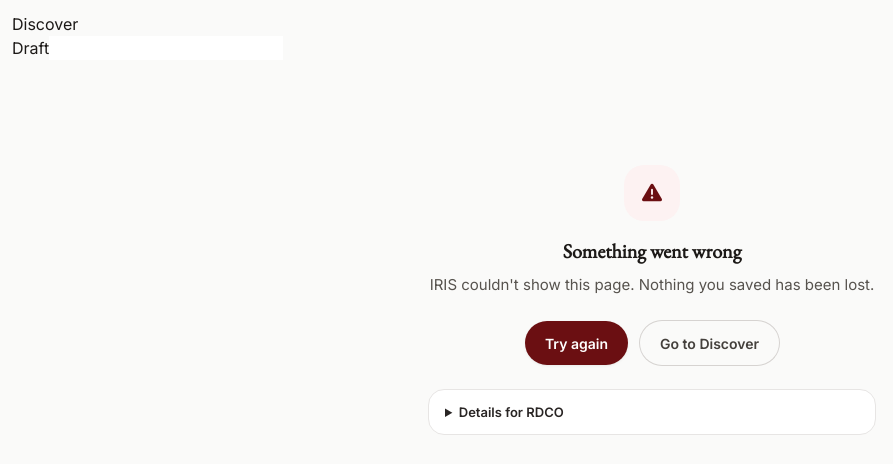
Scenario: a page that crashes › offers Reload page only once Try again has failed too
Expected: the heading "Something went wrong" is shown, [563,238,741,264]
Expected: the button "Reload page" is not shown
Click the button "Try again". click: (576, 343)
box: [525,321,628,365]
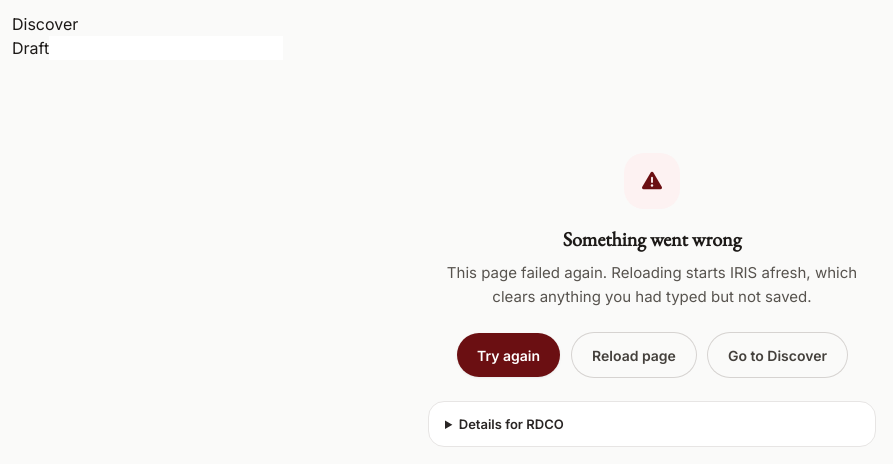
Expected: the button "Reload page" is shown, [572,333,696,377]
Expected: the text "This page failed again" is shown, [447,263,857,306]
